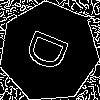D: (24, 27, 79, 78)
